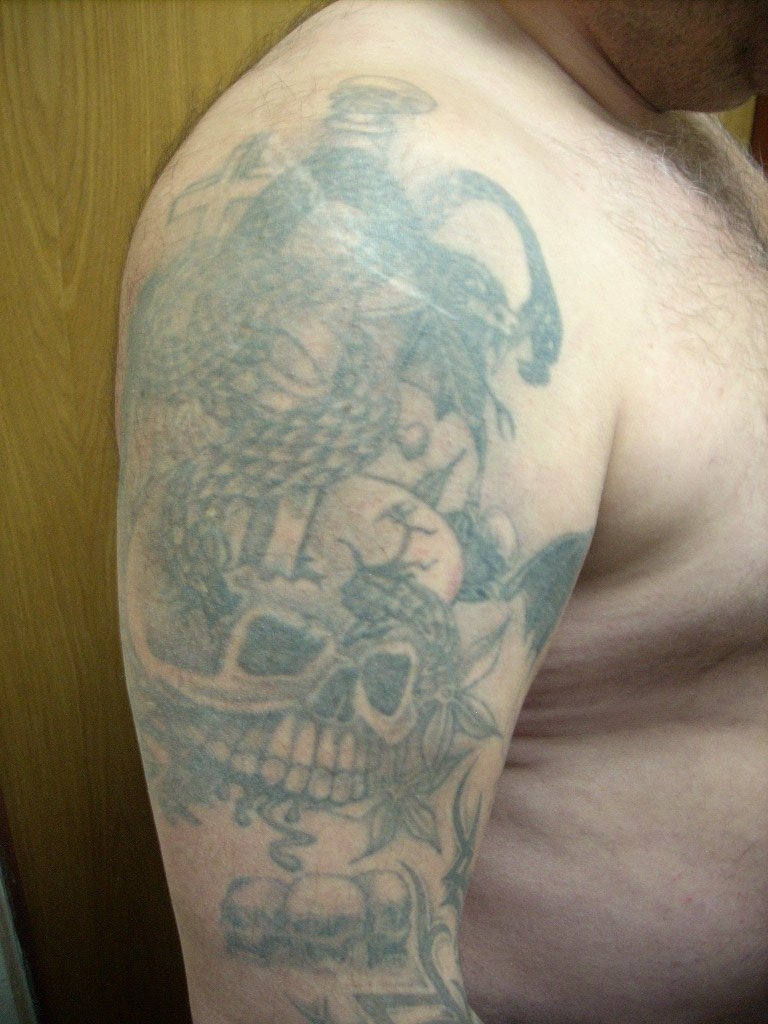tatu7_zmeya: (190, 120, 564, 840)
